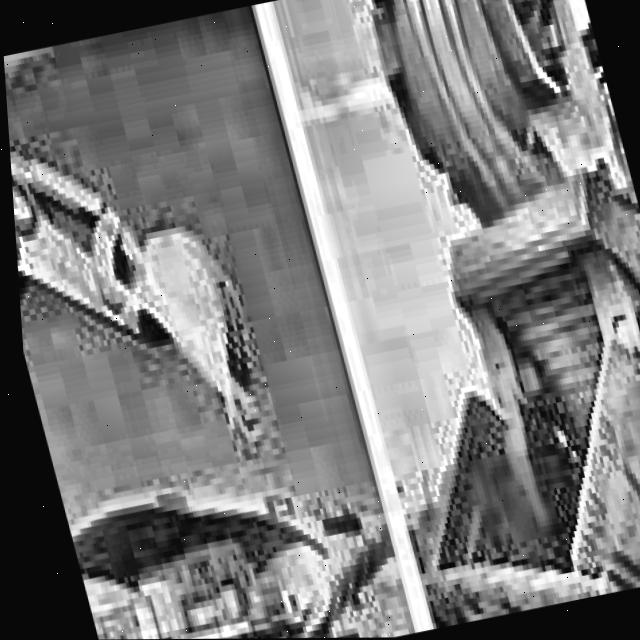dump_truck: (41, 391, 419, 640)
excavator: (291, 0, 640, 626), (6, 105, 311, 640)
